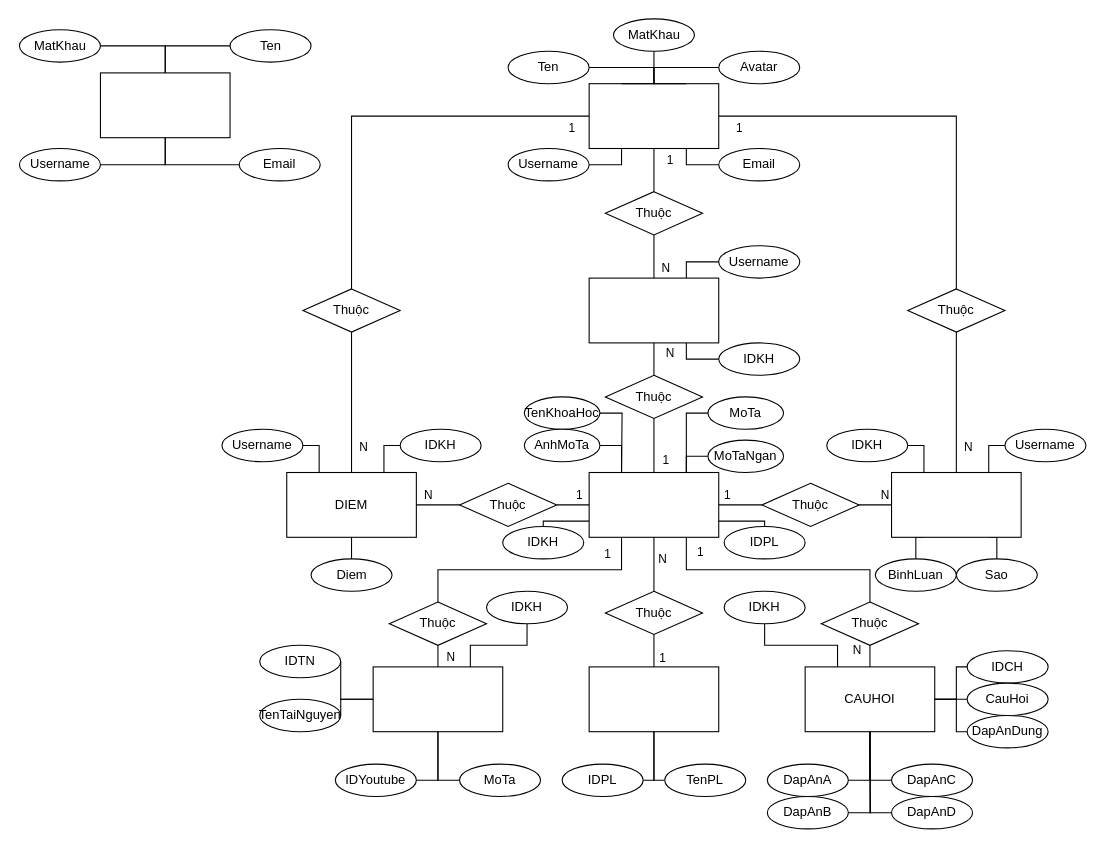
The diagram is 1105 pixels wide and 848 high, and some of its shapes have lost their labels. Each missing label, with the centre of its shape:
ADMIN: [164,105]
DANHGIA: [955,504]
KHOAHOC: [653,504]
KHOAHOC SINHVIEN: [653,310]
PHANLOAI: [653,699]
SINHVIEN: [653,115]
TAINGUYEN: [437,699]
